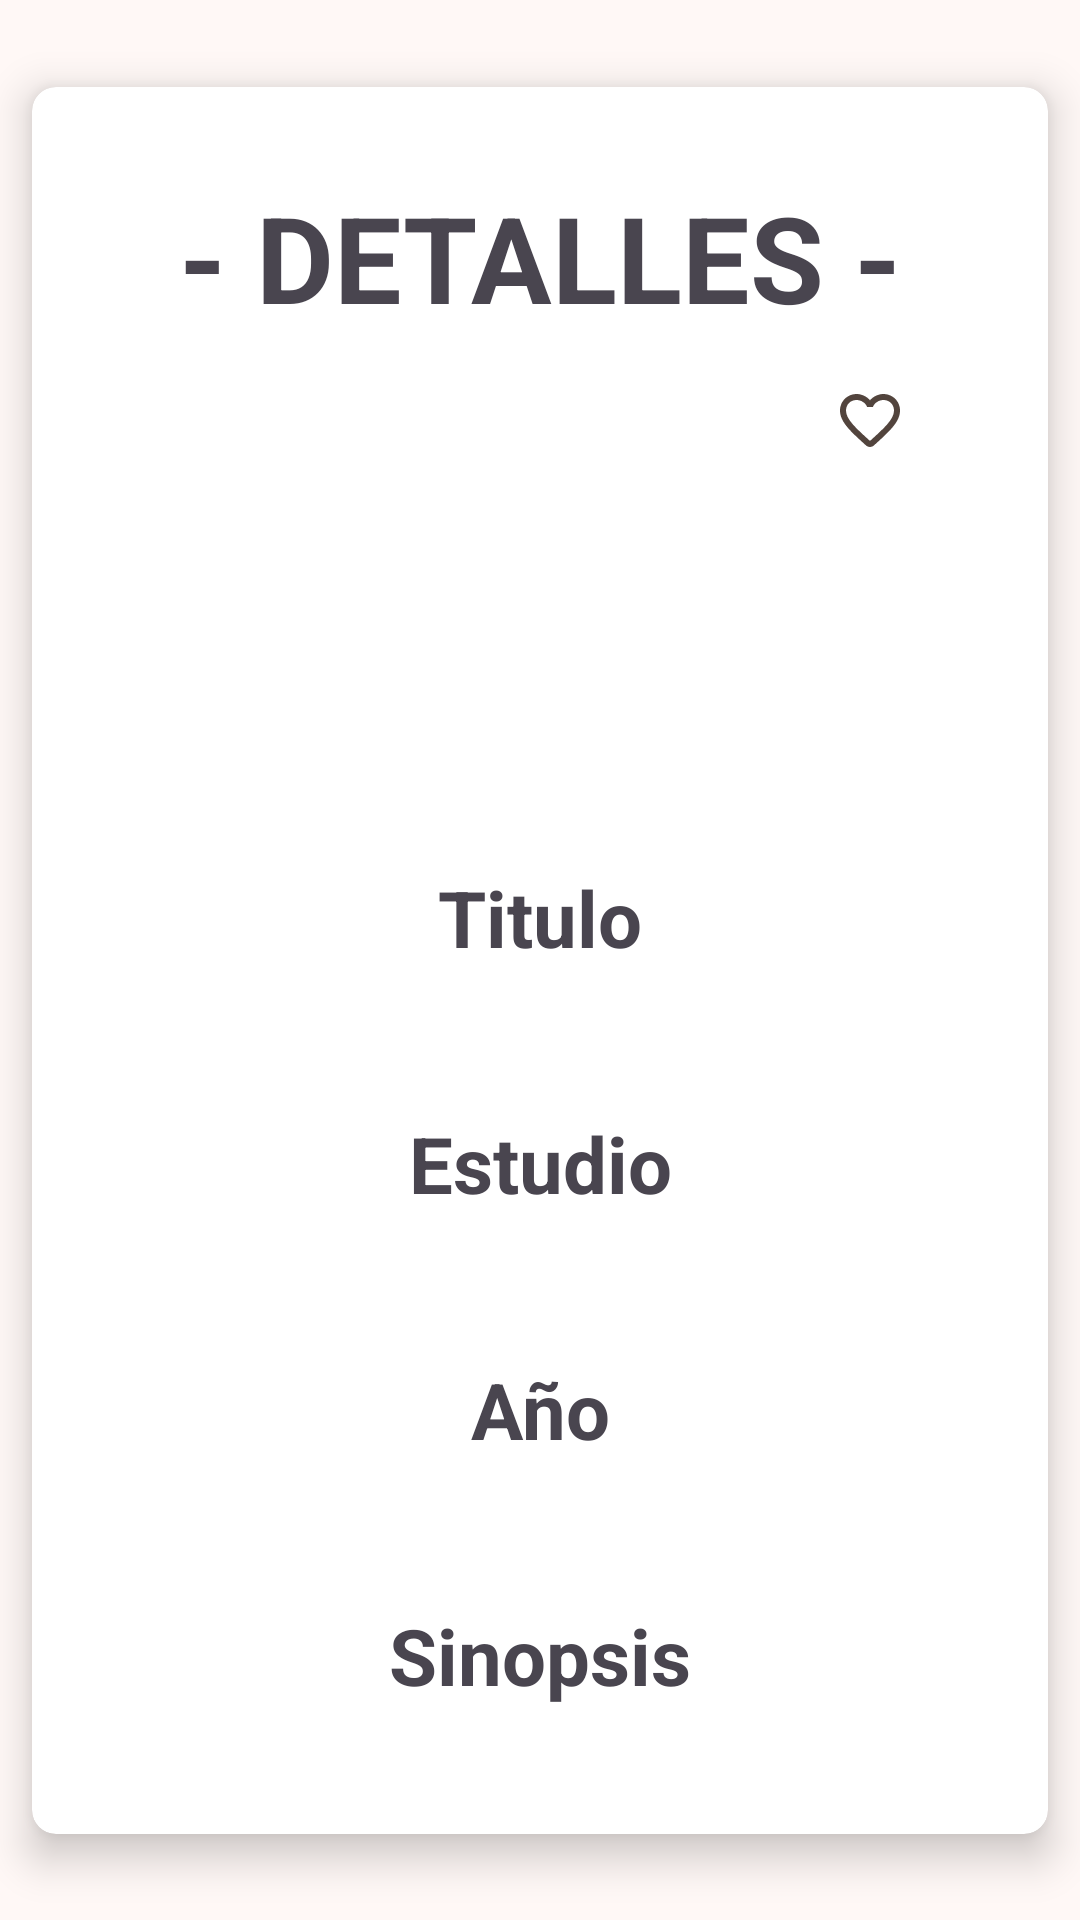

Where icons sit on this 1080x1920 app screen, as (x1, y1, x2, y2):
favourite item: (840, 394, 900, 447)
